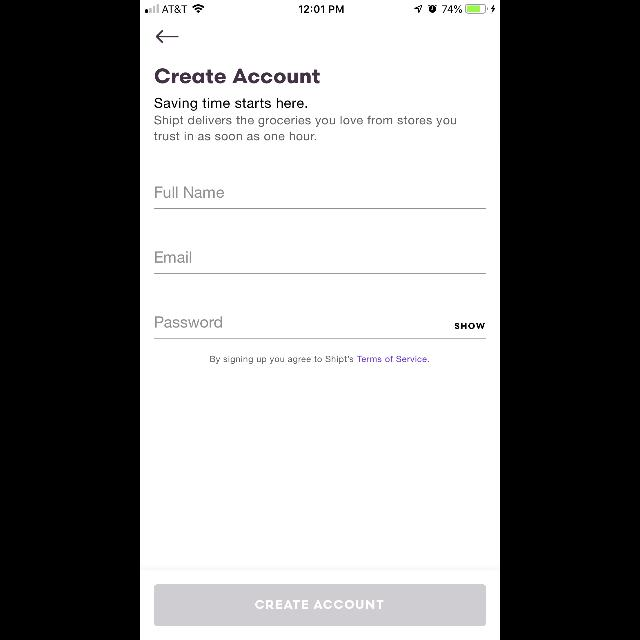icon: (156, 31, 180, 44)
input: (154, 187, 486, 209), (154, 251, 486, 273), (154, 316, 486, 338)
text: (154, 116, 456, 140), (154, 68, 320, 84), (154, 98, 308, 110), (210, 356, 430, 364), (154, 186, 223, 198), (156, 316, 222, 328), (155, 252, 191, 262), (455, 323, 485, 329)
textbutton: (154, 584, 486, 626)
uppertaskbar: (140, 0, 500, 14)
